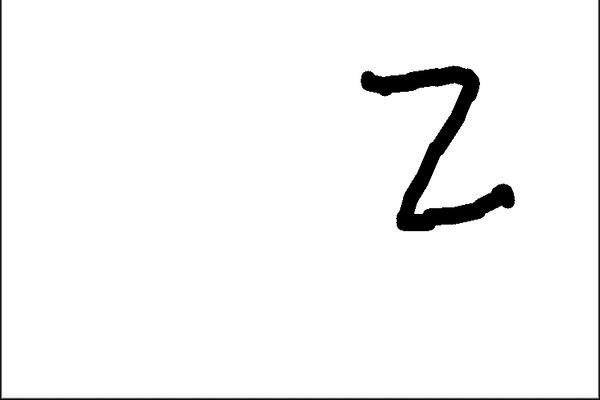Z: (350, 51, 528, 237)
